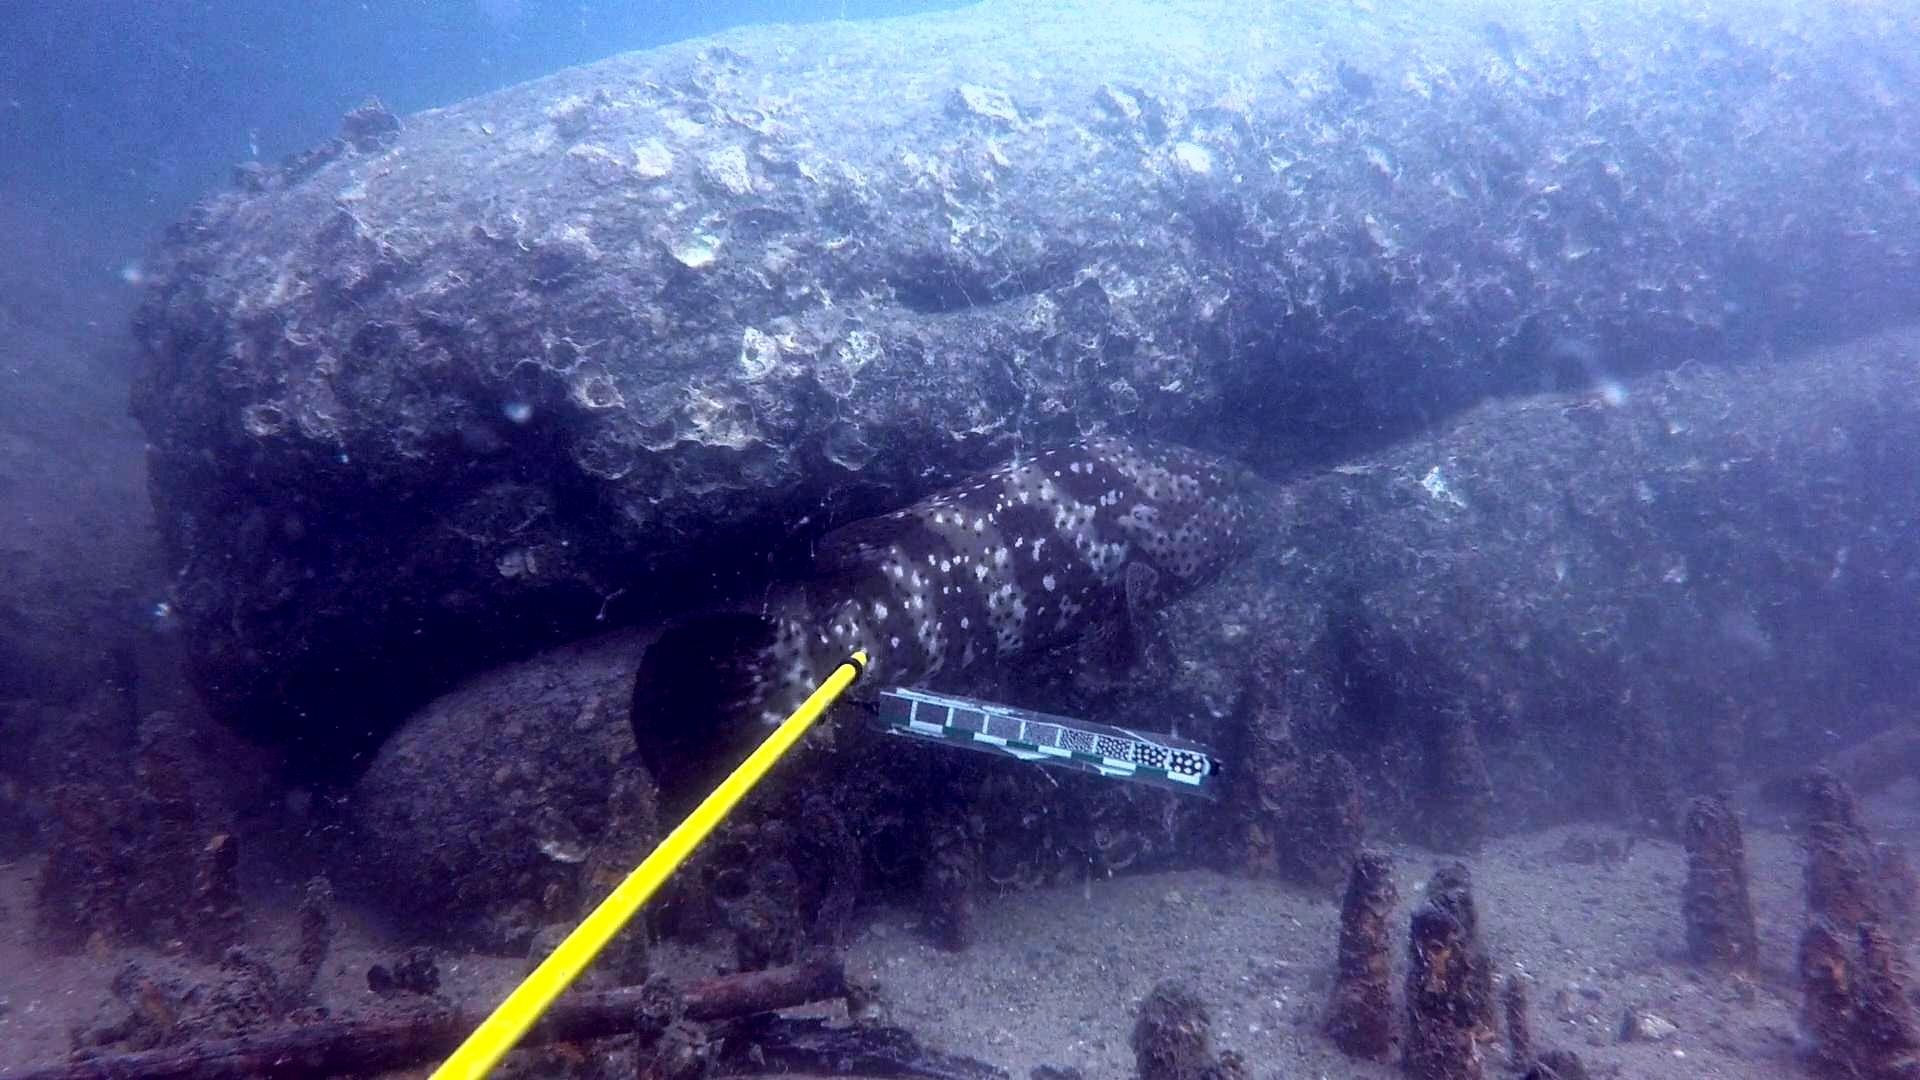epinephelus: (625, 435, 1313, 818)
